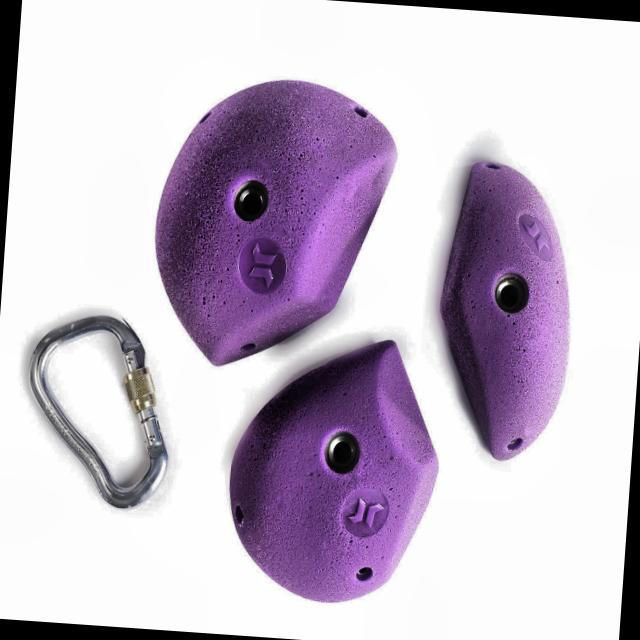Hold: (152, 84, 386, 356), (228, 340, 440, 602), (438, 162, 594, 462)
